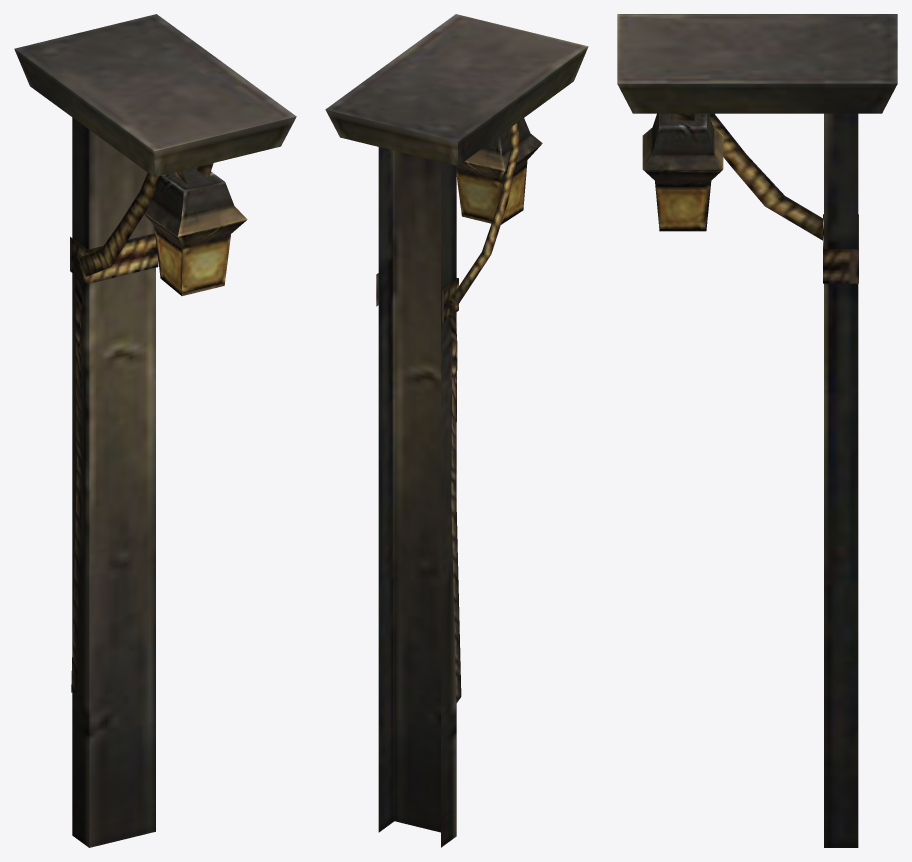
Rendered from Treasure_Light_02.FBX.
3 views of the same model, side by side, from view 1: azimuth 30°, elevation 25°; view 2: azimuth 150°, elevation 25°; view 3: azimuth 270°, elevation 25° (orthographic). The views are drawn at different scales.
Visible parts, largest first — view 1: Treasure_Light_02; view 2: Treasure_Light_02; view 3: Treasure_Light_02.
Part boxes in pixels (box(x1,y1,x2,y2)): Treasure_Light_02: box(14, 14, 296, 847); Treasure_Light_02: box(325, 14, 588, 847); Treasure_Light_02: box(617, 14, 897, 847).
Size of the model in its own units: 0.8417 by 4.41 by 1.43.
